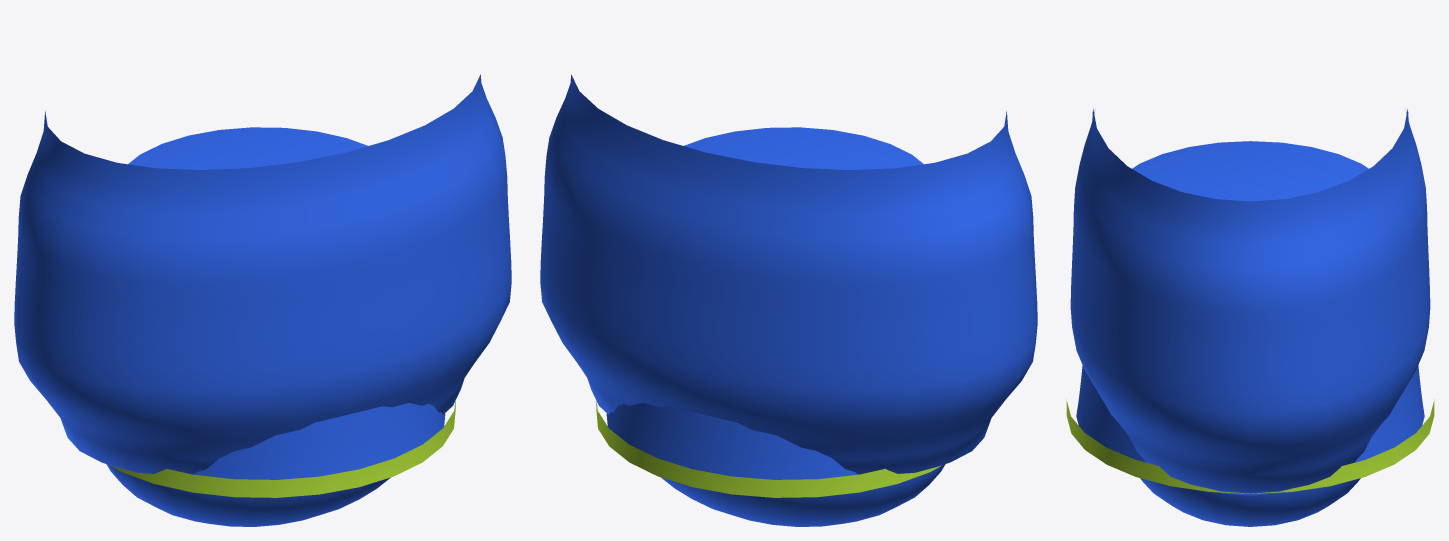
The model's file is bottom_split_male.glb.
The picture shows the model from 3 angles, left to right: view 1: azimuth 30°, elevation 25°; view 2: azimuth 150°, elevation 25°; view 3: azimuth 270°, elevation 25°; orthographic projection. The views are drawn at different scales.
Visible parts, largest first — view 1: pants, pant_leg, crotch, hem; view 2: pants, pant_leg, crotch, hem; view 3: pants, pant_leg, crotch, hem.
Boxes of the visible parts, box(x1,y1,x2,y2) form: pants: box(14, 74, 511, 474); pant_leg: box(128, 127, 445, 479); crotch: box(106, 464, 390, 526); hem: box(110, 399, 455, 497); pants: box(540, 74, 1037, 474); pant_leg: box(606, 127, 923, 479); crotch: box(661, 464, 945, 526); hem: box(596, 399, 941, 497); pants: box(1070, 108, 1430, 495); pant_leg: box(1076, 141, 1424, 462); crotch: box(1140, 478, 1360, 526); hem: box(1066, 399, 1434, 493).
Size of the model in its own units: 0.3199 by 0.275 by 0.2324.
